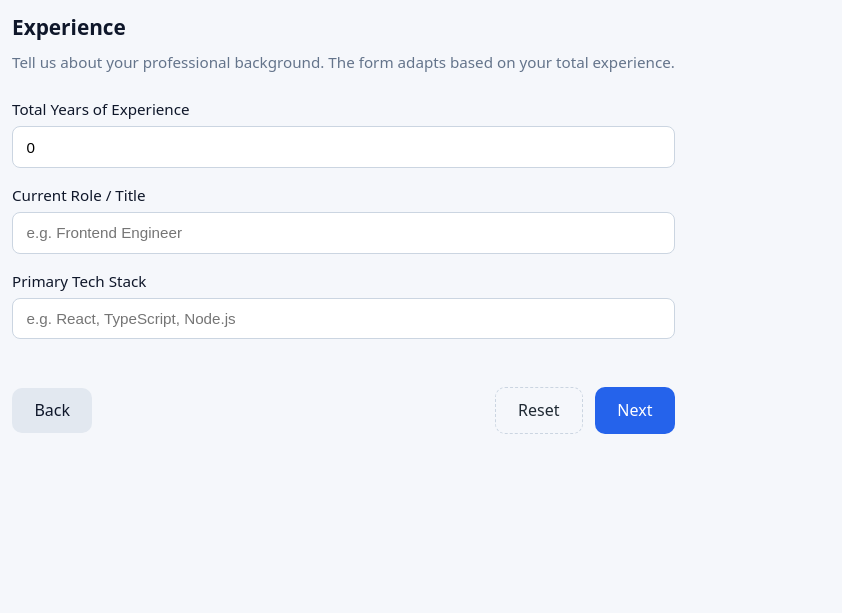
ExperienceStep › shows mentorship toggle and hides advanced fields when years < 2
Replace the text in the number field labelled "Total Years of Experience" with "1" at point(343, 147), box [12,126,675,168]
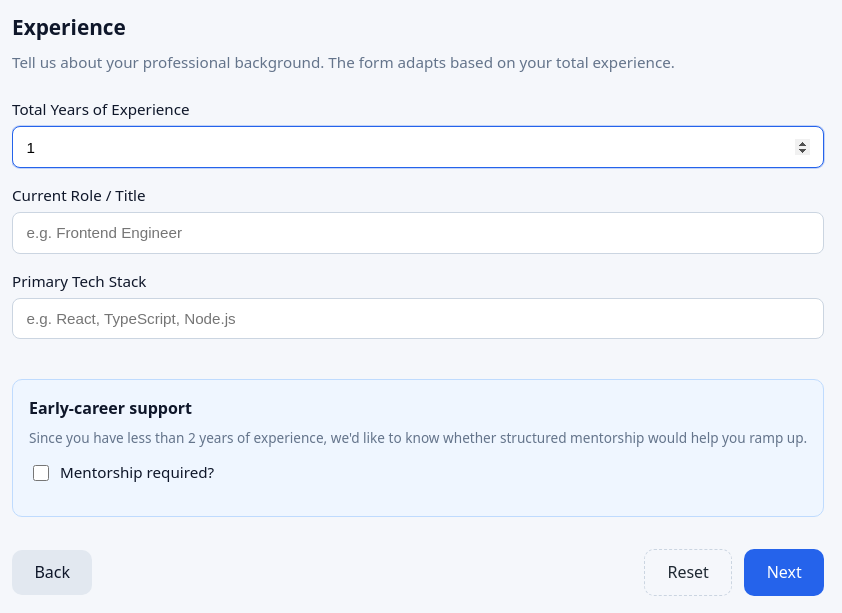
Now the heading "Early-career support" is shown, box [29,397,192,419]
Now the text "Mentorship required?" is shown, box [60,462,214,484]
